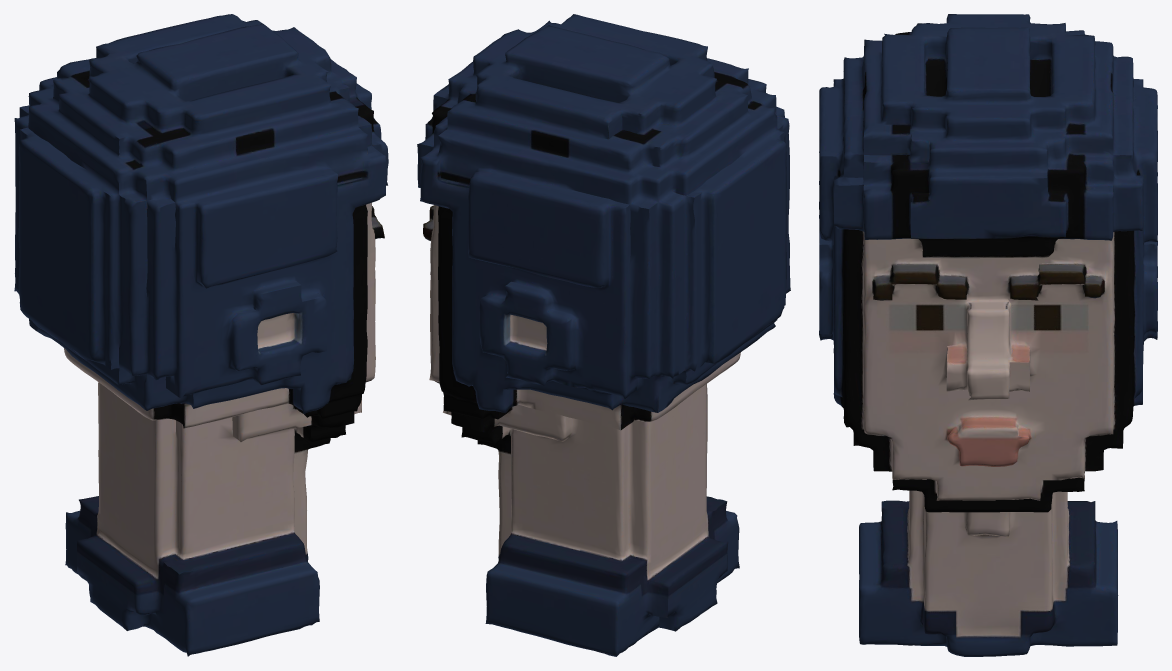
File: kep.glb
3 views of the same model, side by side, from view 1: azimuth 30°, elevation 25°; view 2: azimuth 150°, elevation 25°; view 3: azimuth 270°, elevation 25° (orthographic). The views are drawn at different scales.
Visible parts, largest first — view 1: tripo_node_0825d8bf-a85b-4040-8866-e4350ab625bb; view 2: tripo_node_0825d8bf-a85b-4040-8866-e4350ab625bb; view 3: tripo_node_0825d8bf-a85b-4040-8866-e4350ab625bb.
Part boxes in pixels (x1,y1,x2,y2): tripo_node_0825d8bf-a85b-4040-8866-e4350ab625bb: [14, 14, 388, 656]; tripo_node_0825d8bf-a85b-4040-8866-e4350ab625bb: [417, 14, 790, 656]; tripo_node_0825d8bf-a85b-4040-8866-e4350ab625bb: [819, 14, 1157, 656].
Size of the model in its own units: 0.6054 by 1 by 0.5409.
Materials: 1 (1 with a texture image).
